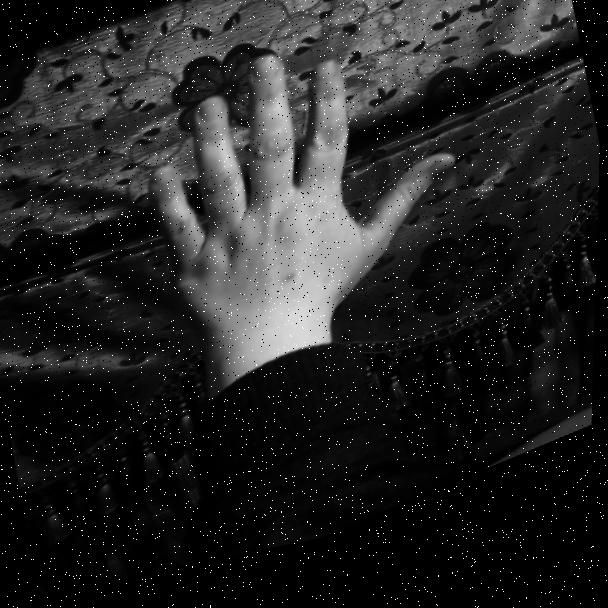five: (126, 0, 491, 414)
